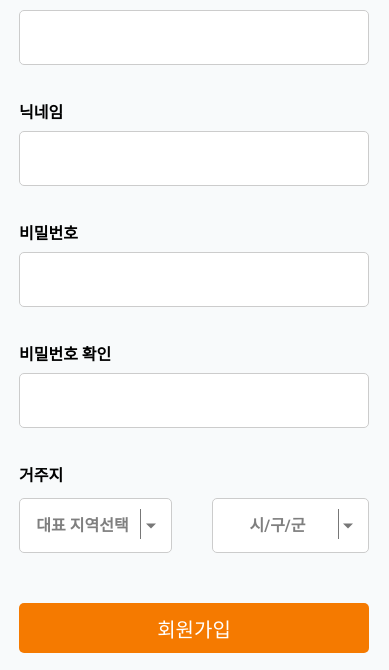
Test: 회원가입 컴포넌트 › [ERROR] 입력없이 회원가입을 눌렀을 시 에러 메세지 띄우기
(page scrolled)
Click the button at (194, 628), box [19,603,369,653]
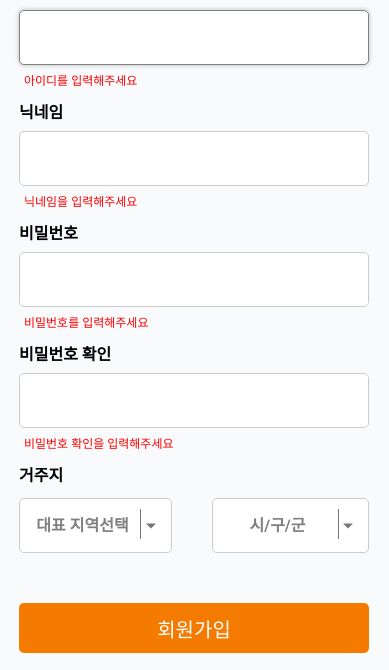
expect the number of elements with test id "error" is 4: met, box [24,74,137,88]; [24,195,137,209]; [24,316,148,330]; [24,437,174,451]
